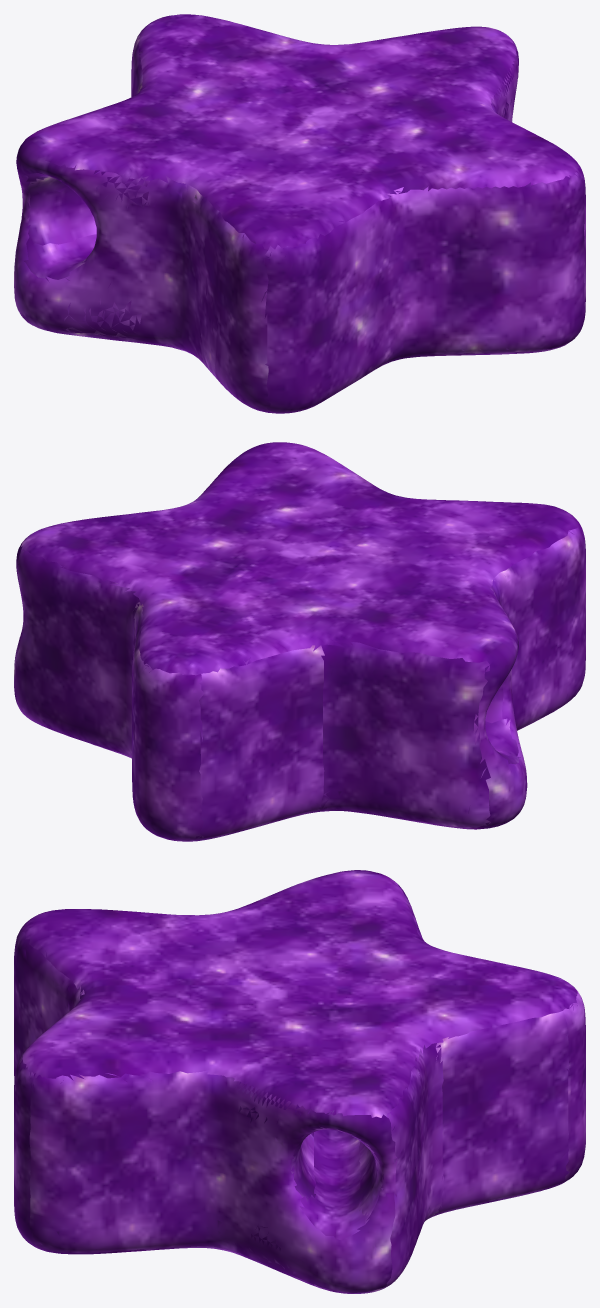
The model's file is amethyst_star.glb.
3 views of the same model, one above another, from view 1: azimuth 30°, elevation 25°; view 2: azimuth 150°, elevation 25°; view 3: azimuth 270°, elevation 25° (orthographic). The views are drawn at different scales.
Visible parts, largest first — view 1: geometry_0; view 2: geometry_0; view 3: geometry_0.
Part boxes in pixels (box(x1,y1,x2,y2)): geometry_0: box(14, 14, 585, 413); geometry_0: box(14, 442, 585, 841); geometry_0: box(14, 870, 585, 1293).
Bounding box in the file's own units: 5.81 × 2.04 × 5.52.
Materials: 1 (1 with a texture image).
